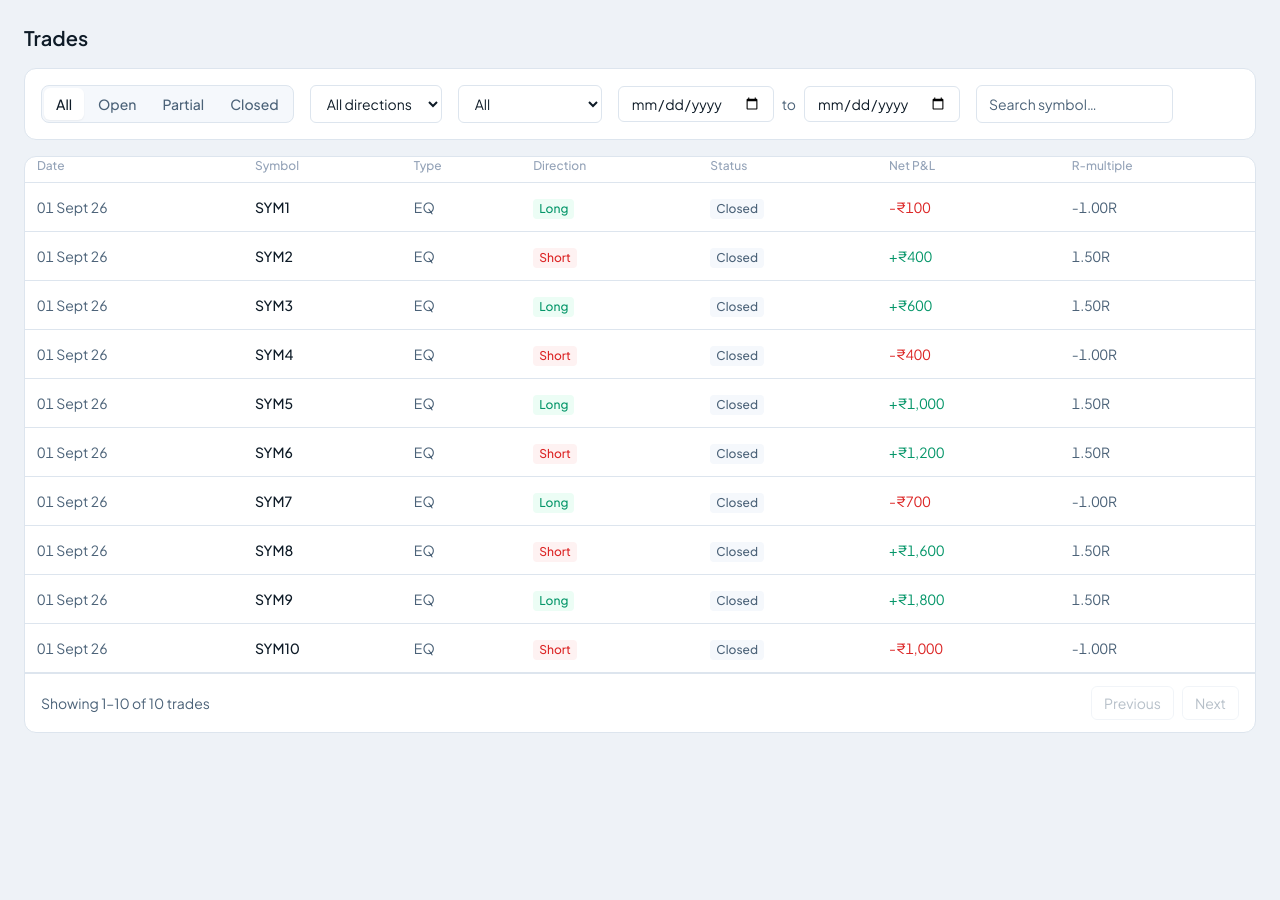
it: TradeListPage › F-19-08: "Clear filters" button resets all filter params to defaults
Apply a filter
Step 1. Select "Long" in the dropdown named "Direction filter" → point(376, 104), box [310,85,442,123]
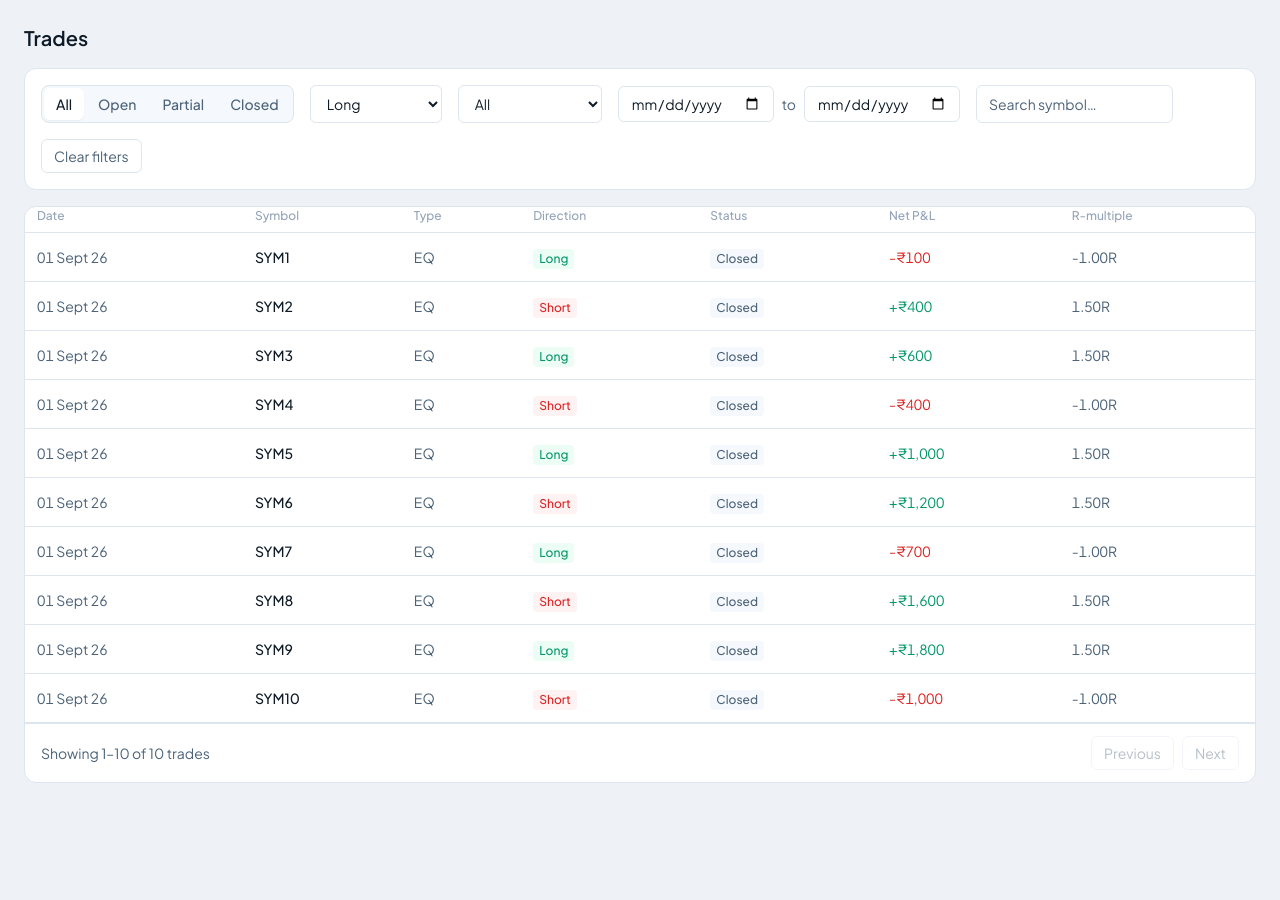
Now the button "Clear filters" is shown
Step 2. Click the button "Clear filters" → point(91, 156), box [41,139,142,173]
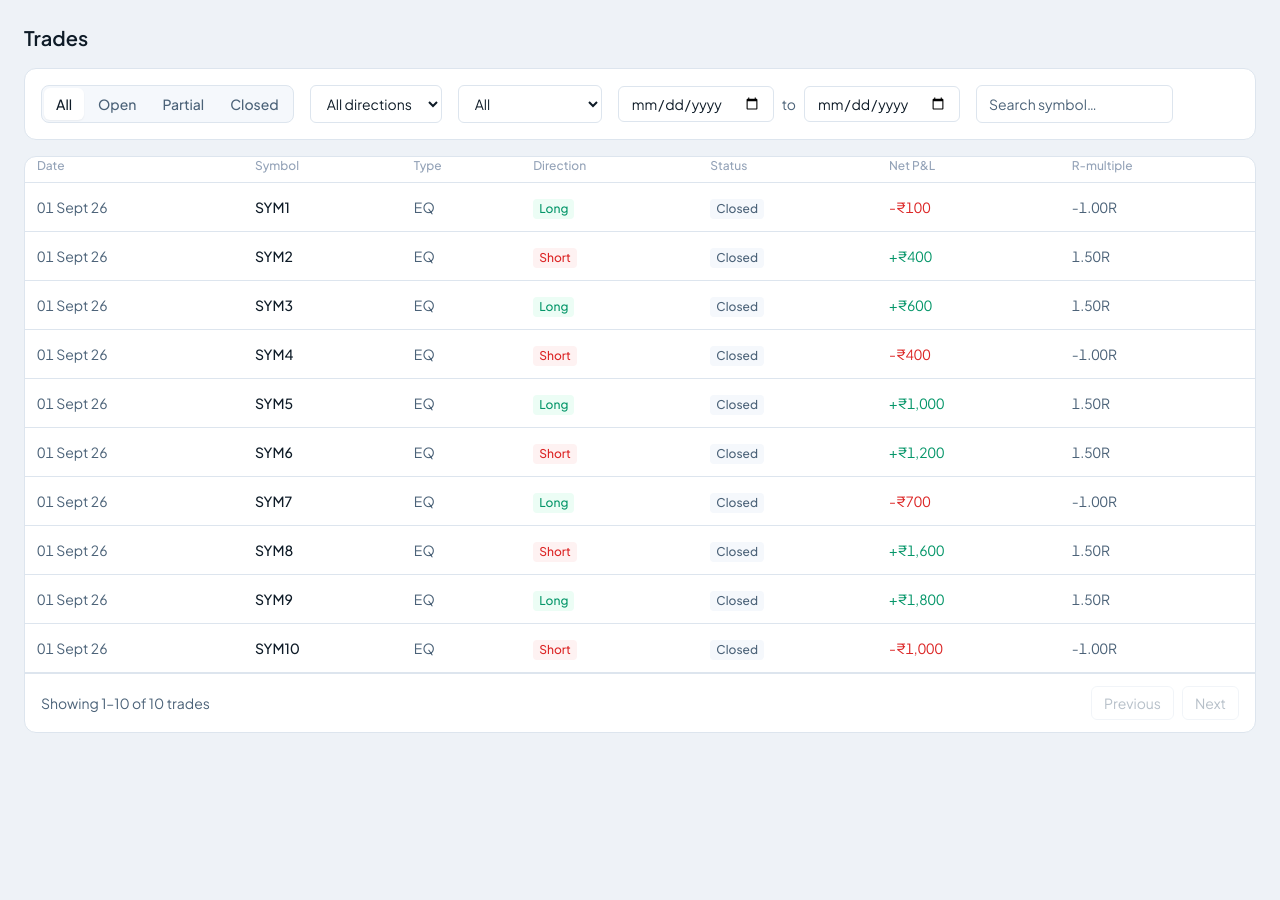
Now the button "Clear filters" is gone
